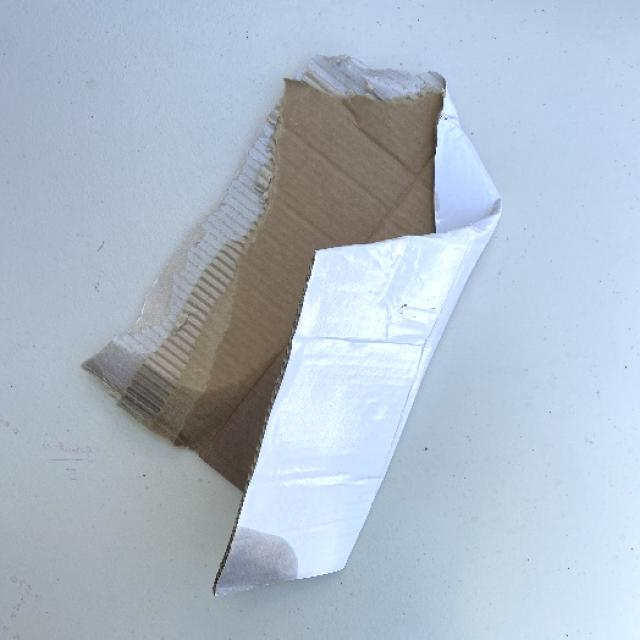kertas: (77, 56, 500, 594)
